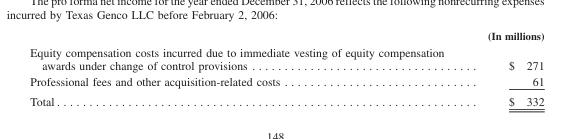table: (29, 29, 543, 107)
table column: (29, 29, 465, 107), (465, 29, 543, 107)
table column header: (29, 29, 543, 43)
table row: (29, 43, 543, 72), (29, 72, 543, 91), (29, 91, 543, 107), (29, 29, 543, 43)
